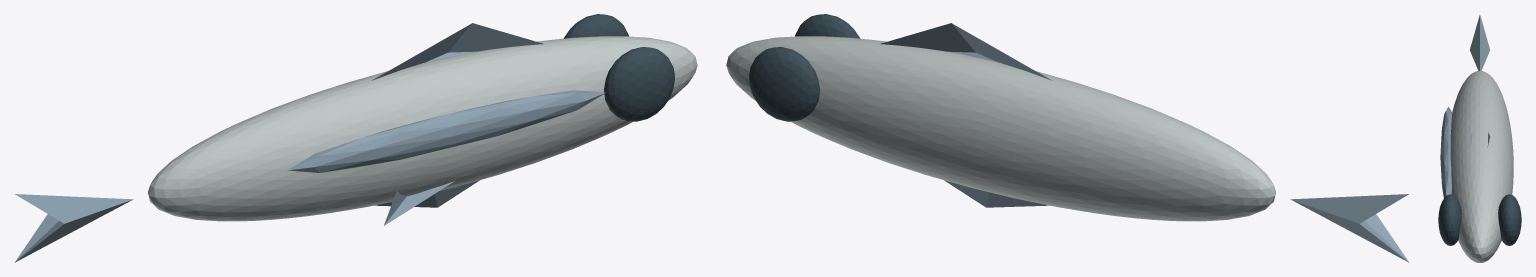
The model's file is Ikan_Bilis.glb.
3 renders of one model, left to right at view 1: azimuth 30°, elevation 25°; view 2: azimuth 150°, elevation 25°; view 3: azimuth 270°, elevation 25°, orthographic. The views are drawn at different scales.
Parts seen in each view (by area): view 1: Part_00, Part_07, Part_05, Part_01, Part_02, Part_06, Part_04, Part_03; view 2: Part_00, Part_06, Part_01, Part_02, Part_05, Part_03; view 3: Part_00, Part_05, Part_06, Part_07, Part_01.
Part boxes in pixels (<box>): Part_00: <box>148,36,697,221</box>; Part_07: <box>287,90,605,172</box>; Part_05: <box>604,47,674,121</box>; Part_01: <box>14,194,133,262</box>; Part_02: <box>372,23,543,80</box>; Part_06: <box>563,14,628,38</box>; Part_04: <box>384,181,454,225</box>; Part_03: <box>375,180,479,207</box>; Part_00: <box>726,36,1275,221</box>; Part_06: <box>749,47,819,121</box>; Part_01: <box>1290,194,1409,262</box>; Part_02: <box>880,23,1051,80</box>; Part_05: <box>795,14,860,38</box>; Part_03: <box>944,180,1048,207</box>; Part_00: <box>1450,71,1513,262</box>; Part_05: <box>1438,194,1461,245</box>; Part_06: <box>1498,194,1521,245</box>; Part_07: <box>1440,107,1452,197</box>; Part_01: <box>1470,15,1489,70</box>.
Size of the model in its own units: 0.7535 by 0.1859 by 0.122.
